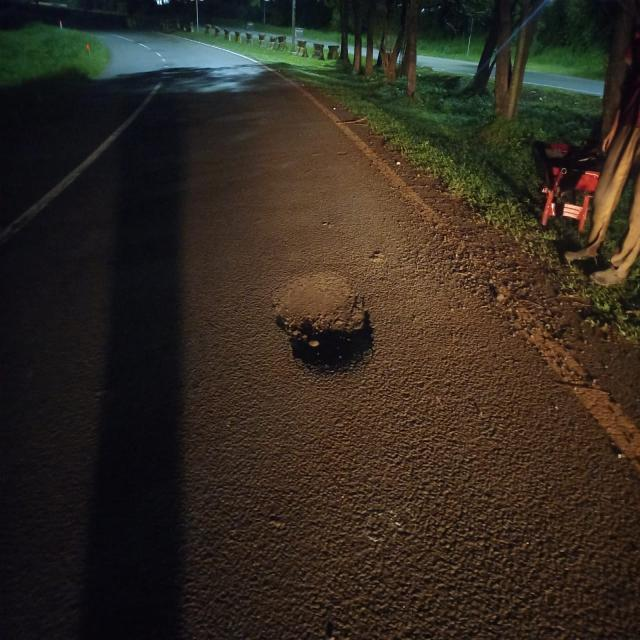Buraco: (267, 266, 380, 380)
